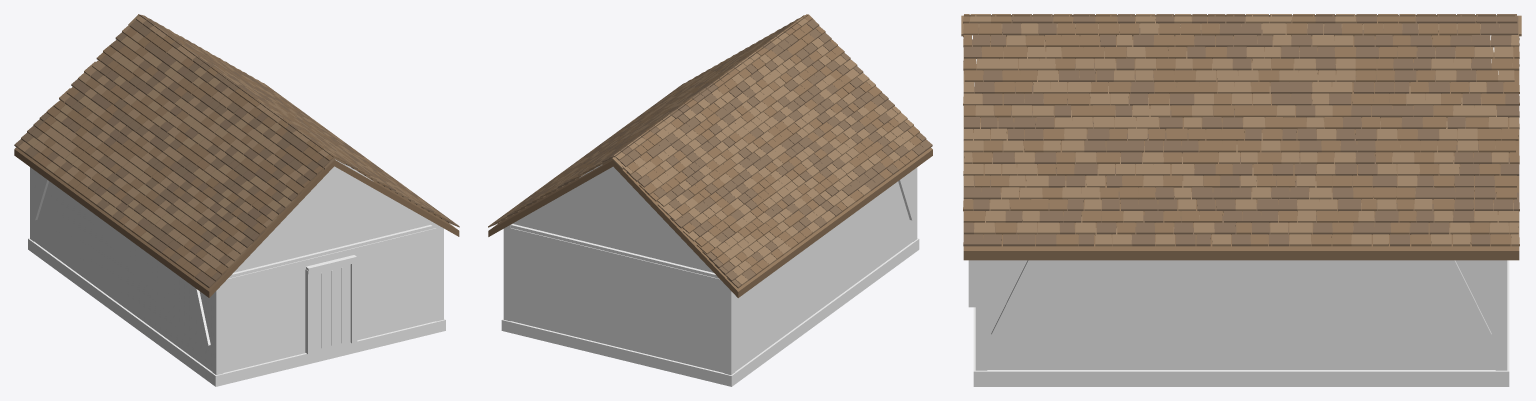
File: cottage_A.glb
The picture shows the model from 3 angles, left to right: view 1: azimuth 30°, elevation 25°; view 2: azimuth 150°, elevation 25°; view 3: azimuth 270°, elevation 25°; orthographic projection. The views are drawn at different scales.
Parts seen in each view (by area): view 1: 09A_ShingleField, 08A_SideClay, 08A_GableClay, 08A_FrontClay, 08A_FrontClay.001, 08A_Sill, 09A_Deck, 08A_Door, 09A_Deck.001, 08A_EndWallPlate, 08A_CornerPost, 08A_DoorJamb (+3 smaller); view 2: 09A_ShingleField, 08A_RearClay, 08A_SideClay, 08A_GableClay.001, 08A_Sill, 09A_Deck, 09A_Deck.001, 08A_EndWallPlate.001, 08A_CornerPost.001, 08A_CornerPost.003; view 3: 09A_ShingleField, 08A_SideClay.001, 09A_Deck.001, 08A_Sill, 08A_CornerPost.002, 08A_CornerPost.003, 08A_SideBrace.002, 08A_SideBrace.003.
Boxes of the visible parts, x1=… form: 09A_ShingleField: x1=14, y1=14, x2=459, y2=287; 08A_SideClay: x1=32, y1=168, x2=214, y2=372; 08A_GableClay: x1=233, y1=166, x2=430, y2=272; 08A_FrontClay: x1=219, y1=259, x2=310, y2=372; 08A_FrontClay.001: x1=350, y1=228, x2=437, y2=340; 08A_Sill: x1=28, y1=238, x2=445, y2=386; 09A_Deck: x1=14, y1=147, x2=334, y2=297; 08A_Door: x1=313, y1=264, x2=350, y2=352; 09A_Deck.001: x1=334, y1=160, x2=459, y2=236; 08A_EndWallPlate: x1=228, y1=225, x2=435, y2=278; 08A_CornerPost: x1=212, y1=284, x2=223, y2=374; 08A_DoorJamb: x1=305, y1=269, x2=312, y2=354; 09A_ShingleField: x1=488, y1=14, x2=932, y2=288; 08A_RearClay: x1=508, y1=228, x2=727, y2=373; 08A_SideClay: x1=733, y1=169, x2=915, y2=372; 08A_GableClay.001: x1=513, y1=166, x2=713, y2=272; 08A_Sill: x1=501, y1=238, x2=919, y2=386; 09A_Deck: x1=613, y1=148, x2=932, y2=297; 09A_Deck.001: x1=488, y1=159, x2=613, y2=236; 08A_EndWallPlate.001: x1=511, y1=224, x2=719, y2=278; 08A_CornerPost.001: x1=724, y1=284, x2=735, y2=374; 08A_CornerPost.003: x1=503, y1=223, x2=512, y2=321; 09A_ShingleField: x1=963, y1=14, x2=1519, y2=246; 08A_SideClay.001: x1=981, y1=260, x2=1501, y2=369; 09A_Deck.001: x1=963, y1=36, x2=1519, y2=260; 08A_Sill: x1=973, y1=260, x2=1509, y2=386; 08A_CornerPost.002: x1=975, y1=260, x2=987, y2=370; 08A_CornerPost.003: x1=1495, y1=260, x2=1507, y2=370; 08A_SideBrace.002: x1=991, y1=260, x2=1035, y2=336; 08A_SideBrace.003: x1=1447, y1=260, x2=1491, y2=336.
Bounding box in the file's own units: 5.78 × 4.53 × 7.87.
